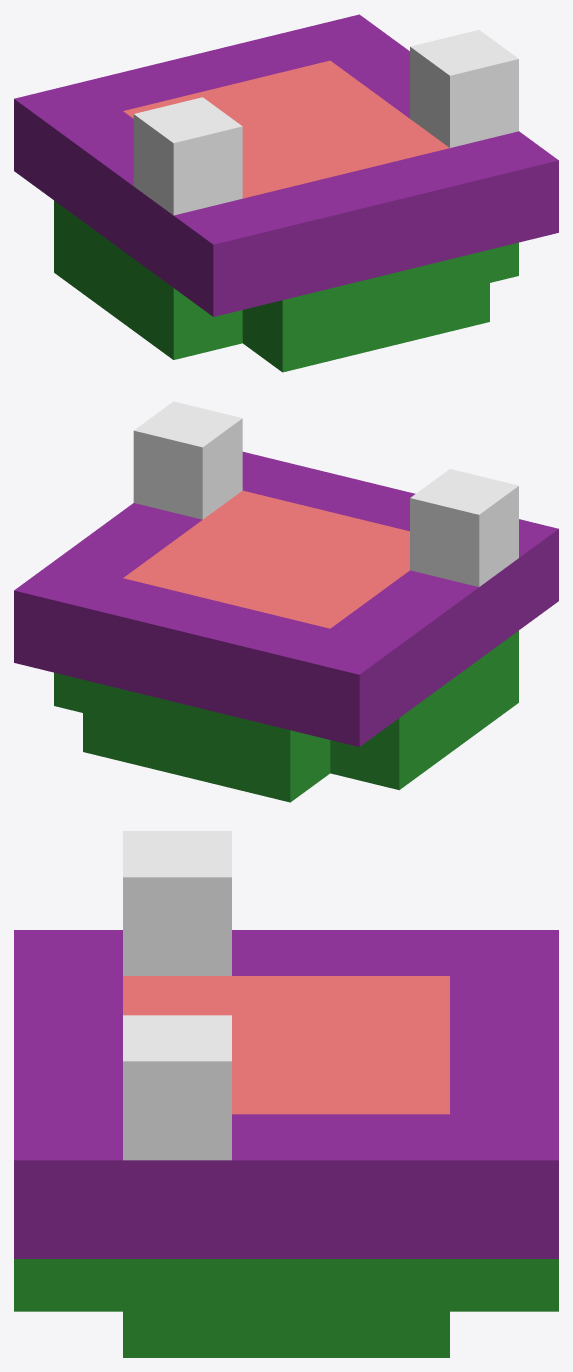
Rendered from Small_GreenGuy-1.obj.
3 renders of one model, top to bottom at view 1: azimuth 30°, elevation 25°; view 2: azimuth 150°, elevation 25°; view 3: azimuth 270°, elevation 25°, orthographic. The views are drawn at different scales.
Size of the model in its own units: 0.5 by 0.3 by 0.5.
Materials: 1 (1 with a texture image).
